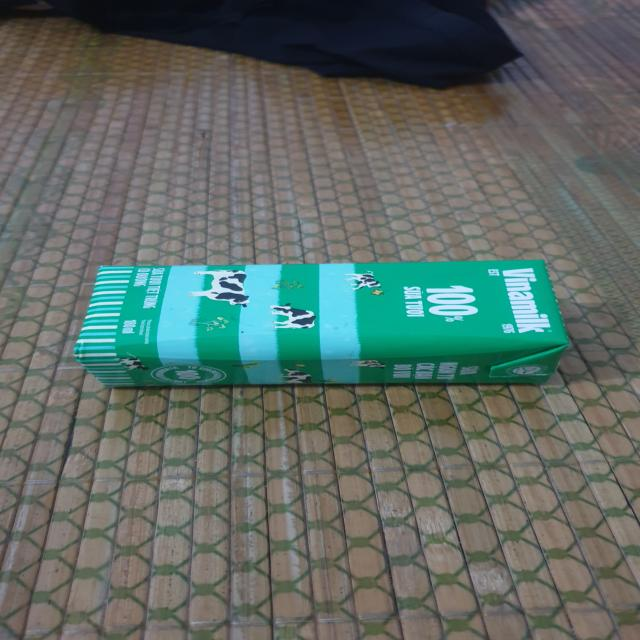Vina: (74, 258, 571, 392)
